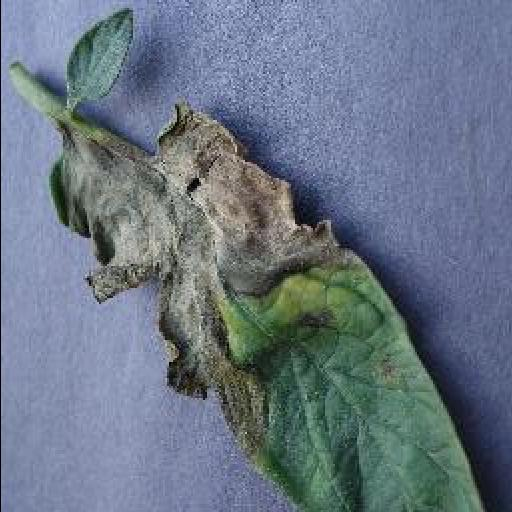disease_tomato: (46, 106, 486, 512)
